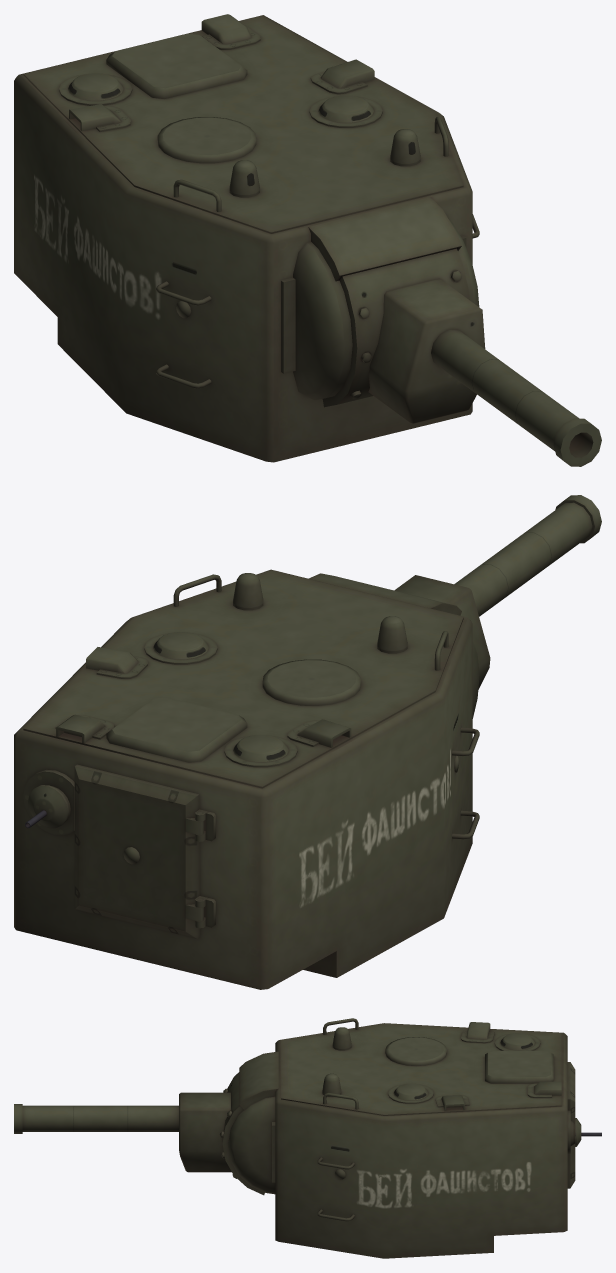
3 renders of one model, top to bottom at view 1: azimuth 30°, elevation 25°; view 2: azimuth 150°, elevation 25°; view 3: azimuth 270°, elevation 25°, orthographic. The views are drawn at different scales.
Visible parts, largest first — view 1: KV-II_Turret, KV-II_Cannon, KV-II_Barrel; view 2: KV-II_Turret, KV-II_Barrel, KV-II_Cannon; view 3: KV-II_Turret, KV-II_Cannon, KV-II_Barrel.
Part boxes in pixels (bbox=[...]): KV-II_Turret: bbox=[14, 14, 479, 462]; KV-II_Cannon: bbox=[322, 248, 485, 423]; KV-II_Barrel: bbox=[431, 329, 601, 466]; KV-II_Turret: bbox=[14, 569, 479, 989]; KV-II_Barrel: bbox=[454, 495, 601, 616]; KV-II_Cannon: bbox=[394, 575, 490, 689]; KV-II_Turret: bbox=[228, 1018, 601, 1258]; KV-II_Cannon: bbox=[179, 1072, 264, 1195]; KV-II_Barrel: bbox=[14, 1104, 178, 1133].
Size of what is drawn, in the model's own units: 200 by 153 by 513.
